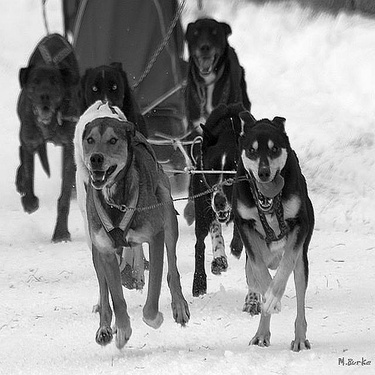dog: (63, 112, 197, 356), (222, 104, 318, 357), (11, 30, 84, 244), (192, 97, 254, 296), (174, 15, 252, 148), (78, 53, 145, 147)
